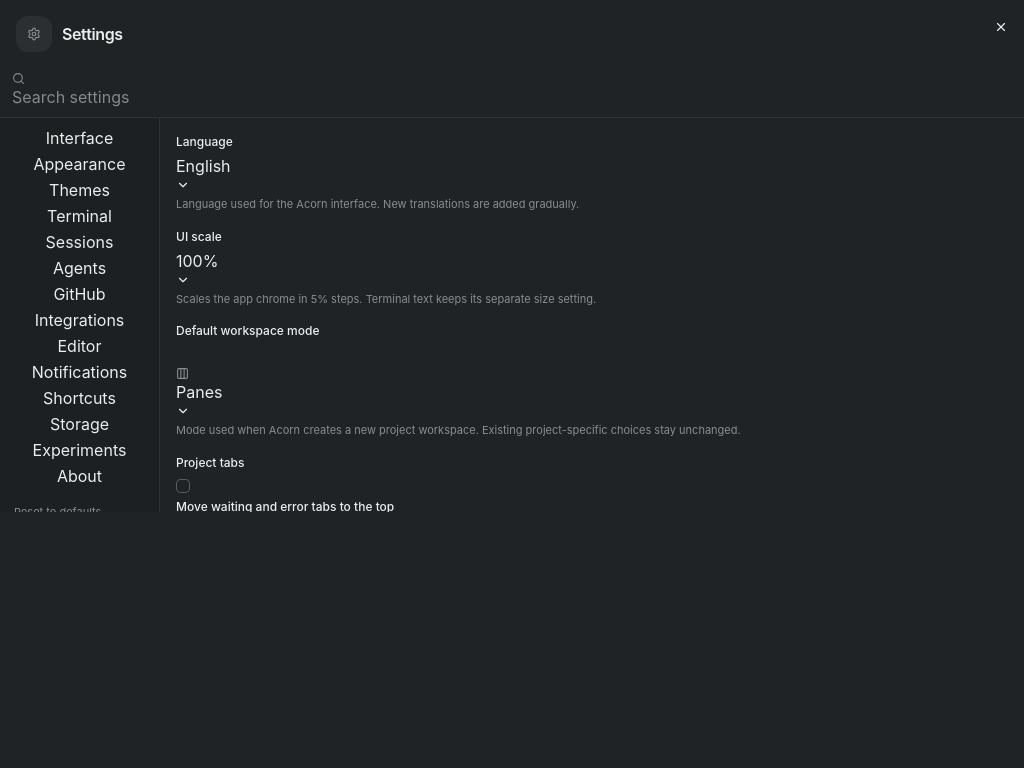
Test: SettingsModal font controls › renders shortcut hints with editing controls
Click the button "Shortcuts" at [80, 398], box [6,386,153,410]
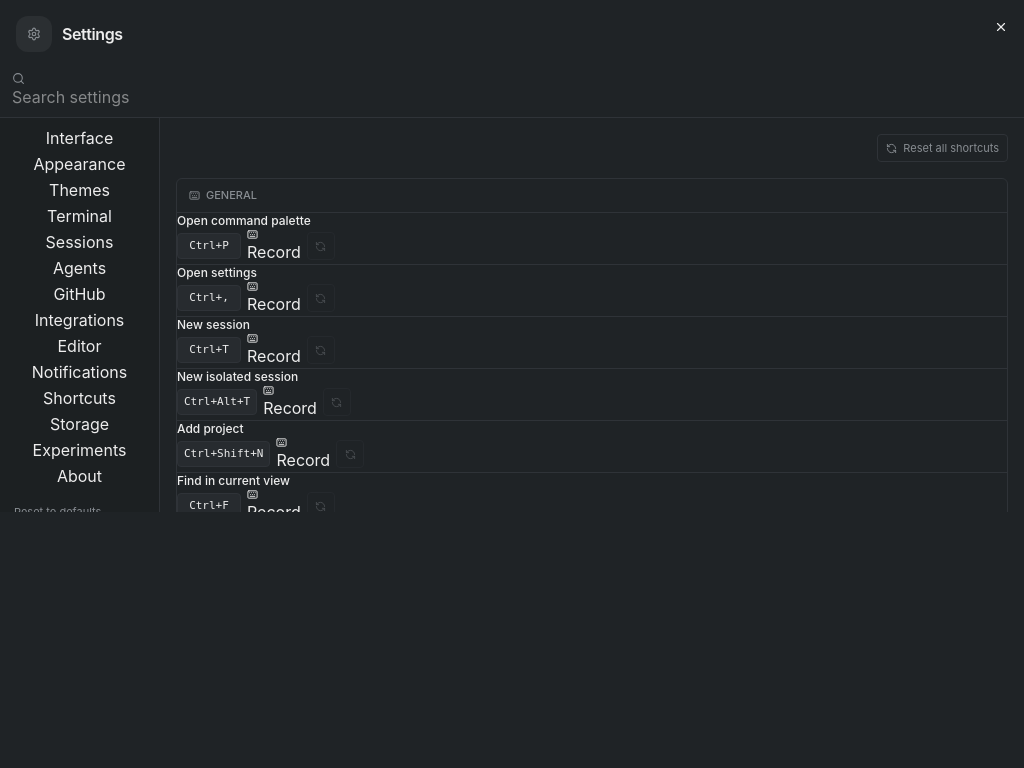
Expected: the text "Reset all shortcuts" is shown, [877,134,1008,162]
Expected: the text "Open command palette" is shown, [177,212,311,228]
Expected: the text "Find in current view" is shown, [177,472,290,488]
